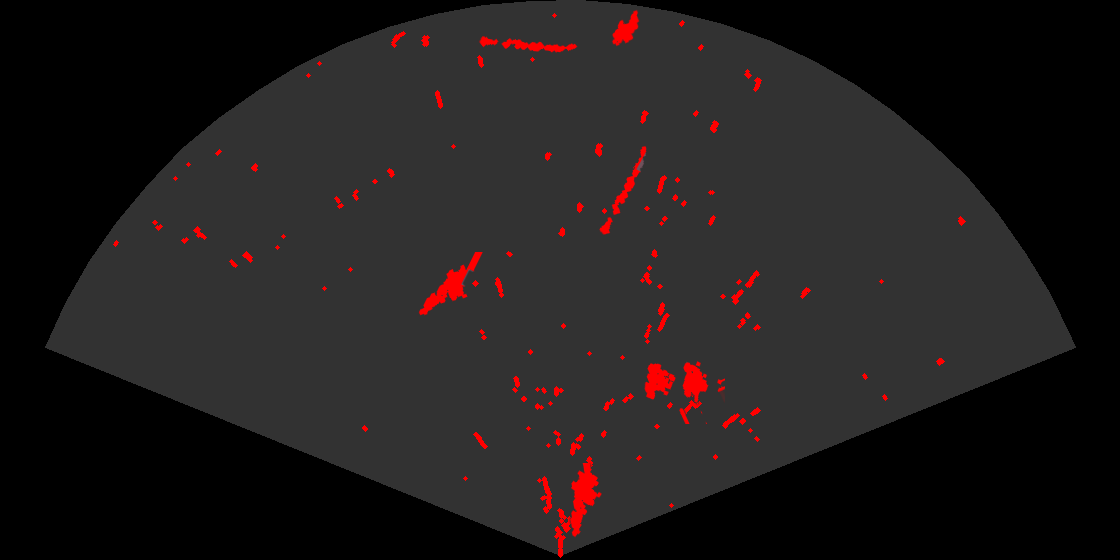AUV: (610, 8, 641, 48)
cage: (643, 360, 725, 424)
chain: (598, 145, 648, 236), (477, 35, 579, 54)
frogman: (417, 252, 484, 317), (569, 463, 603, 538)
